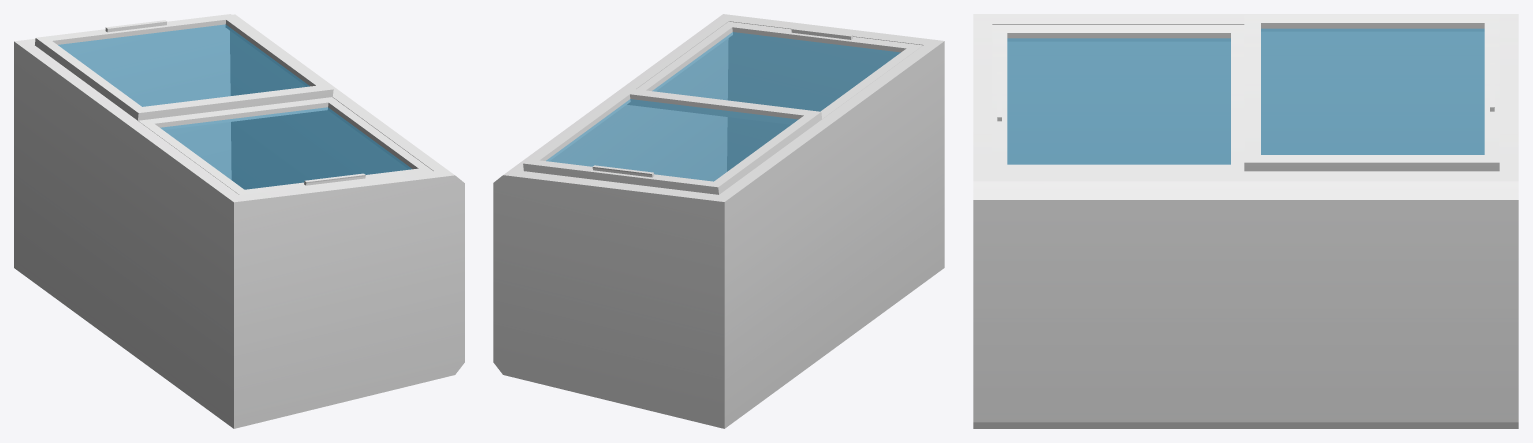
File: ice_fridge_white.fbx
3 views of the same model, side by side, from view 1: azimuth 30°, elevation 25°; view 2: azimuth 150°, elevation 25°; view 3: azimuth 270°, elevation 25° (orthographic). The views are drawn at different scales.
Parts seen in each view (by area): view 1: ice_fridge_white, ice_fridge_door1_white, ice_fridge_door2_white; view 2: ice_fridge_white, ice_fridge_door1_white, ice_fridge_door2_white; view 3: ice_fridge_white, ice_fridge_door1_white, ice_fridge_door2_white.
Boxes of the visible parts, left/top/right/bottom form: ice_fridge_white: left=14, top=14, right=464, bottom=428; ice_fridge_door1_white: left=35, top=14, right=333, bottom=120; ice_fridge_door2_white: left=138, top=97, right=433, bottom=194; ice_fridge_white: left=493, top=14, right=944, bottom=428; ice_fridge_door1_white: left=523, top=88, right=821, bottom=194; ice_fridge_door2_white: left=627, top=21, right=922, bottom=124; ice_fridge_white: left=973, top=14, right=1518, bottom=428; ice_fridge_door1_white: left=1244, top=15, right=1499, bottom=171; ice_fridge_door2_white: left=992, top=25, right=1244, bottom=171.
Bounding box in the file's own units: 652 × 627 × 1076.
